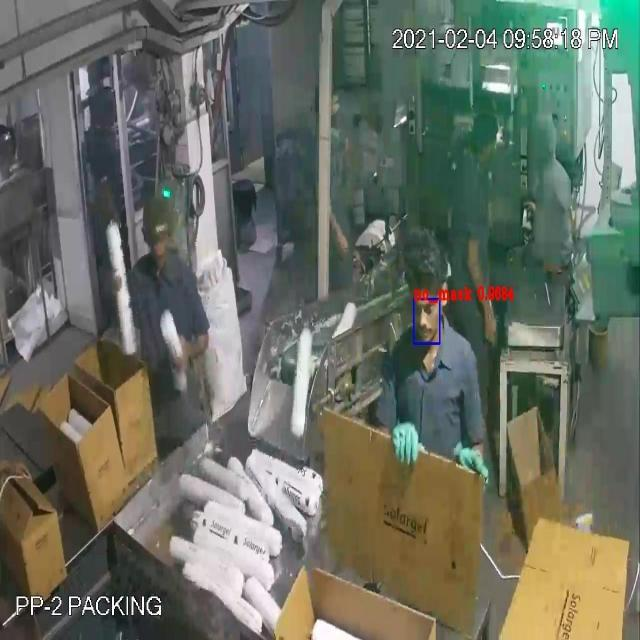No_Gloves: (18, 42, 483, 476)
